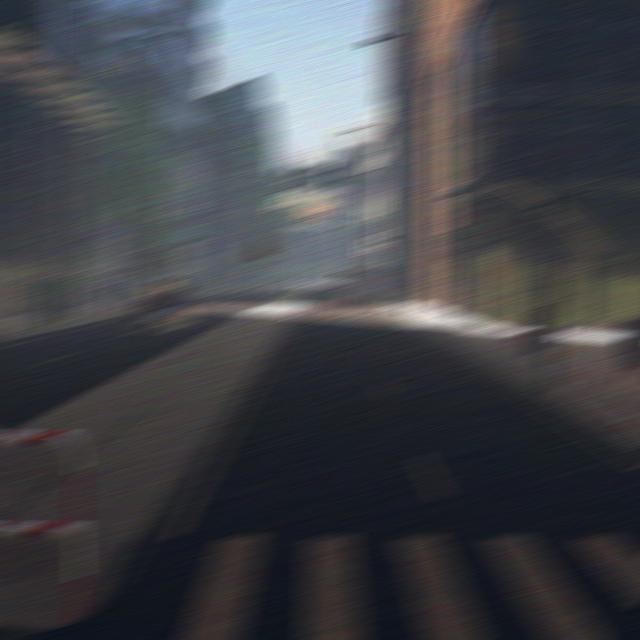speedLimit30: (442, 232, 465, 257)
